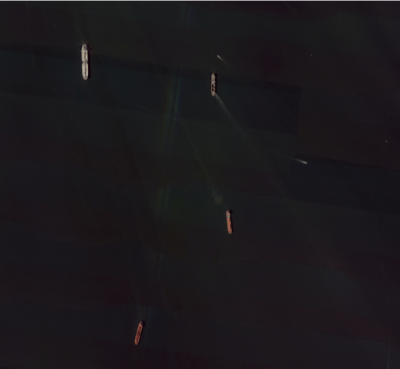boat: (81, 44, 89, 80), (135, 320, 144, 344), (226, 209, 233, 234), (211, 73, 216, 96), (386, 140, 388, 142), (305, 162, 308, 163), (218, 55, 219, 57)
